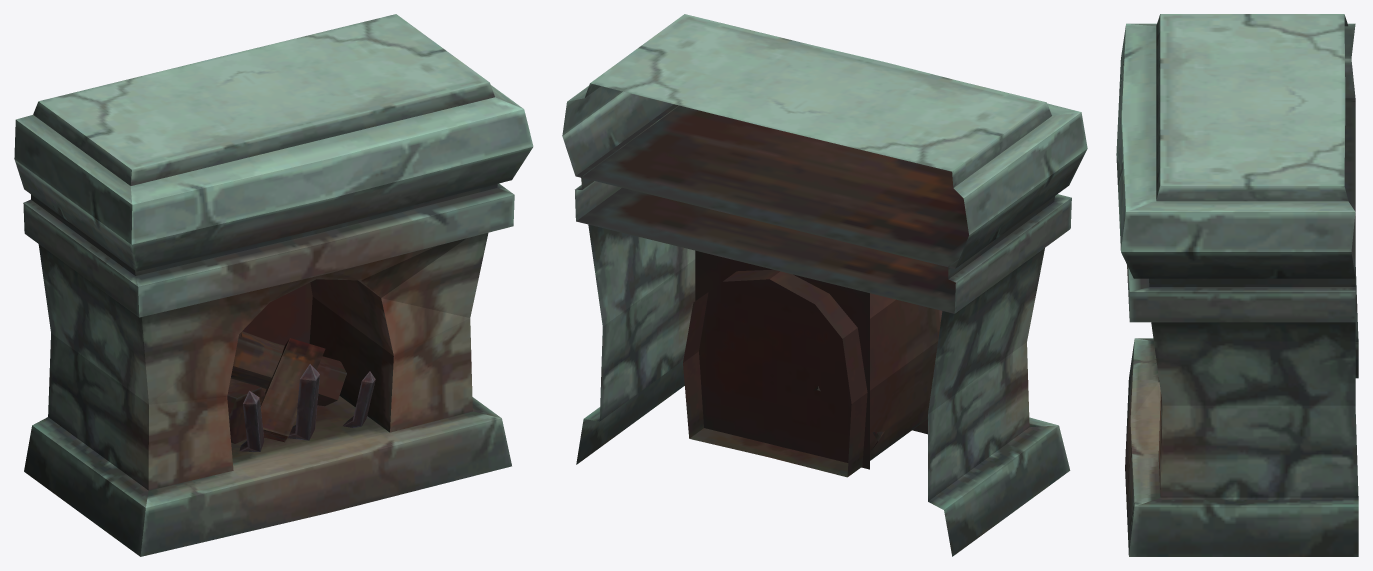
File: crypt_fireplace01.fbx
The picture shows the model from 3 angles, left to right: view 1: azimuth 30°, elevation 25°; view 2: azimuth 150°, elevation 25°; view 3: azimuth 270°, elevation 25°; orthographic projection. The views are drawn at different scales.
Parts seen in each view (by area): view 1: obj0.076; view 2: obj0.076; view 3: obj0.076.
Boxes of the visible parts, x1=… form: obj0.076: x1=14, y1=14, x2=533, y2=556; obj0.076: x1=562, y1=14, x2=1087, y2=556; obj0.076: x1=1116, y1=14, x2=1358, y2=556.
Size of the model in its own units: 3.21 by 2.85 by 1.7.
